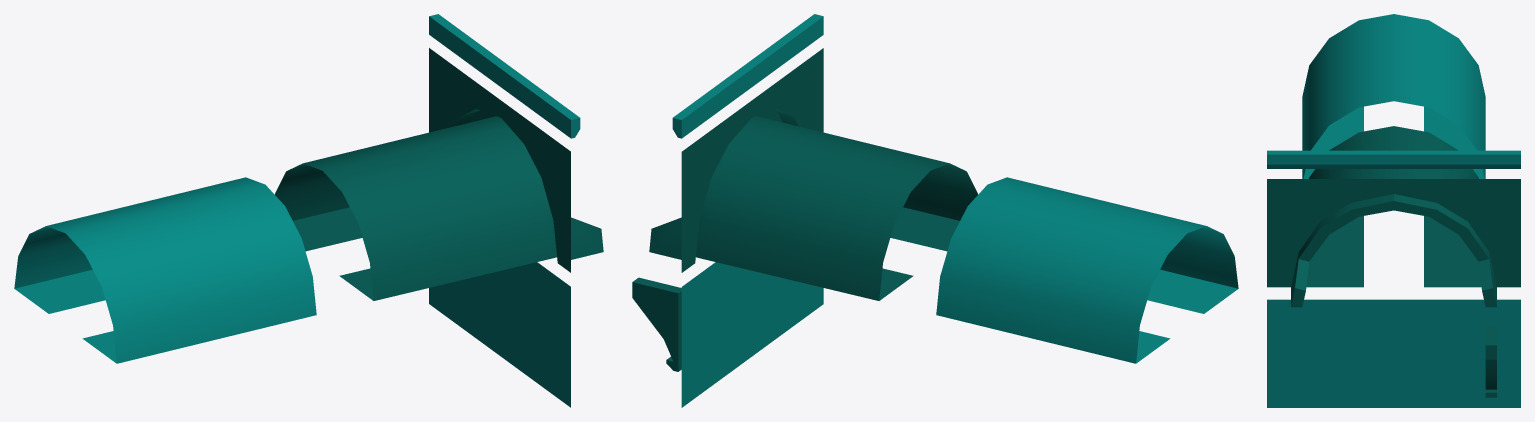
Rendered from MESH_TunnelPack.fbx.
3 renders of one model, left to right at view 1: azimuth 30°, elevation 25°; view 2: azimuth 150°, elevation 25°; view 3: azimuth 270°, elevation 25°, orthographic. The views are drawn at different scales.
Visible parts, largest first — view 1: Tunnel_Entrance, Tunnel_MidSection, Tunnel_Wall, Tunnel_WallEdge; view 2: Tunnel_Entrance, Tunnel_MidSection, Tunnel_Wall, Tunnel_WallEdge, Tunnel_Support; view 3: Tunnel_Entrance, Tunnel_Wall, Tunnel_MidSection, Tunnel_WallEdge, Tunnel_Support.
Part boxes in pixels (box(x1,y1,x2,y2)): Tunnel_Entrance: box(275, 48, 603, 300); Tunnel_MidSection: box(14, 177, 316, 363); Tunnel_Wall: box(429, 262, 570, 407); Tunnel_WallEdge: box(429, 14, 580, 138); Tunnel_Entrance: box(649, 48, 977, 300); Tunnel_MidSection: box(936, 177, 1238, 363); Tunnel_Wall: box(681, 262, 823, 407); Tunnel_WallEdge: box(672, 14, 823, 138); Tunnel_Support: box(632, 277, 681, 371); Tunnel_Entrance: box(1267, 126, 1520, 307); Tunnel_Wall: box(1267, 299, 1520, 407); Tunnel_MidSection: box(1302, 14, 1485, 178); Tunnel_WallEdge: box(1267, 150, 1520, 168); Tunnel_Support: box(1485, 325, 1496, 397).
Bounding box in the file's own units: 68.77 × 38.02 × 34.
